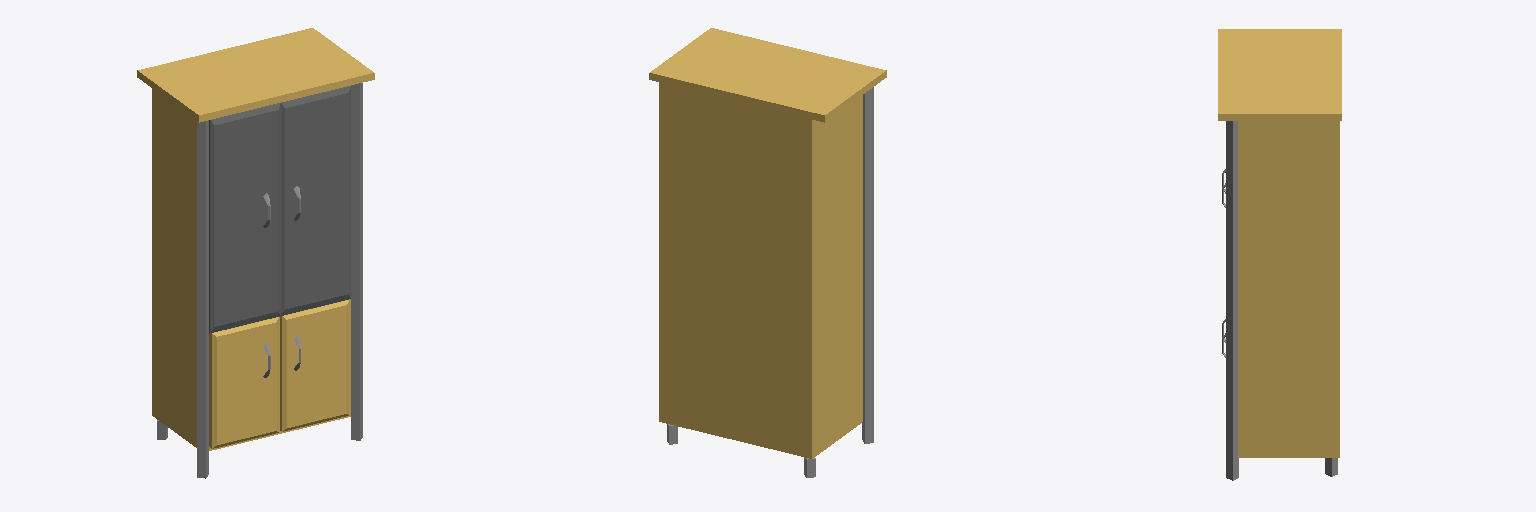
Rendered from glasscabinet.obj.
3 renders of one model, left to right at view 1: azimuth 30°, elevation 25°; view 2: azimuth 150°, elevation 25°; view 3: azimuth 270°, elevation 25°, orthographic.
Visible parts, largest first — view 1: Boolean_1_10, sweethome3d_window_pane_left_12, sweethome3d_window_pane_right_11, Cube_2_1, Cube_3_6, Cube_3_1_7, Cylinder_1_1_3, Cylinder_1_2; view 2: Boolean_1_10, Cube_2_1, Cylinder_1_1_3; view 3: Boolean_1_10, Cube_2_1, Cylinder_1_2.
Boxes of the visible parts, box(x1,y1,x2,y2) form: Boolean_1_10: box(152, 89, 350, 450); sweethome3d_window_pane_left_12: box(209, 103, 280, 332); sweethome3d_window_pane_right_11: box(281, 86, 350, 315); Cube_2_1: box(137, 28, 374, 122); Cube_3_6: box(209, 317, 278, 448); Cube_3_1_7: box(280, 300, 348, 431); Cylinder_1_1_3: box(197, 120, 208, 478); Cylinder_1_2: box(351, 83, 362, 440); Boolean_1_10: box(659, 82, 862, 458); Cube_2_1: box(649, 28, 886, 122); Cylinder_1_1_3: box(862, 87, 873, 443); Boolean_1_10: box(1238, 121, 1339, 457); Cube_2_1: box(1218, 29, 1341, 120); Cylinder_1_2: box(1226, 121, 1238, 480).
Bounding box in the file's own units: 74.61 × 150 × 45.4.